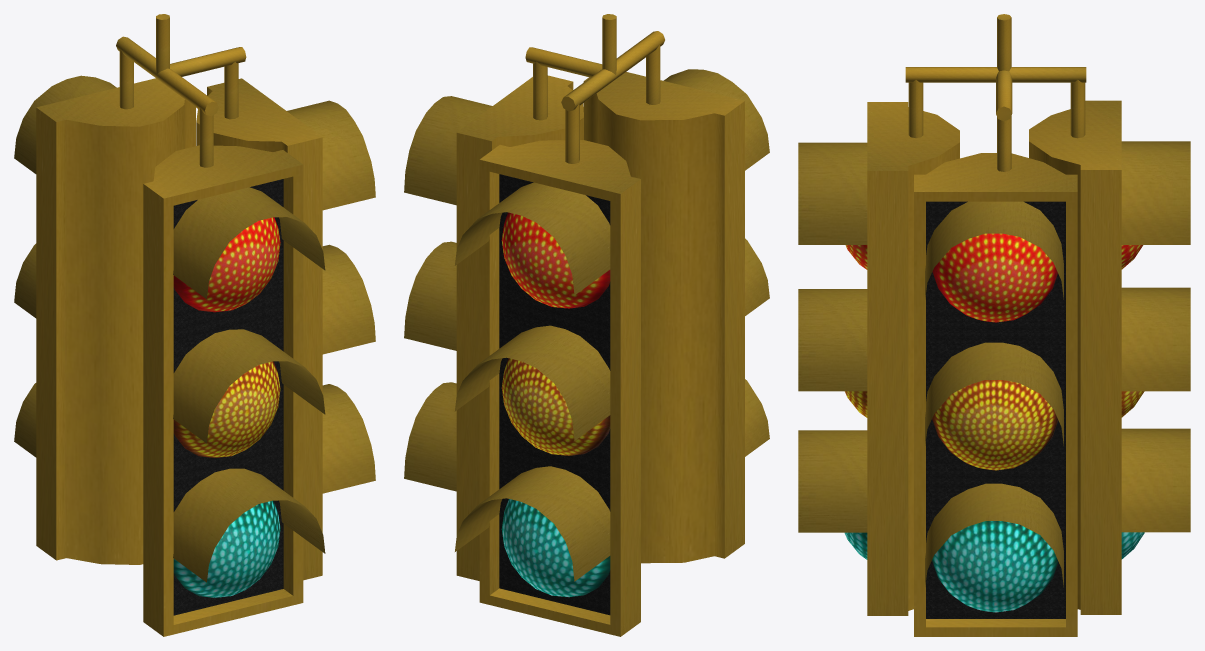
The model's file is traffic light.FBX.
3 views of the same model, side by side, from view 1: azimuth 30°, elevation 25°; view 2: azimuth 150°, elevation 25°; view 3: azimuth 270°, elevation 25° (orthographic).
Visible parts, largest first — view 1: traffic light; view 2: traffic light; view 3: traffic light.
Boxes of the visible parts, x1,y1,x2,y2 form: traffic light: (14, 14, 375, 636); traffic light: (404, 14, 769, 636); traffic light: (798, 14, 1190, 636).
Size of the model in its own units: 5.22 by 11.38 by 7.19.
